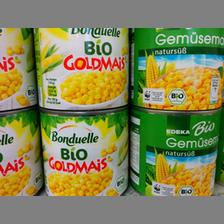Mais: (127, 108, 222, 196), (36, 108, 128, 196), (32, 27, 130, 108), (131, 28, 223, 110), (0, 107, 42, 195), (0, 28, 36, 108)
